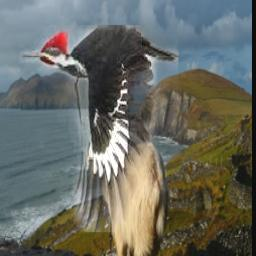Woodpecker: (19, 25, 178, 232)
